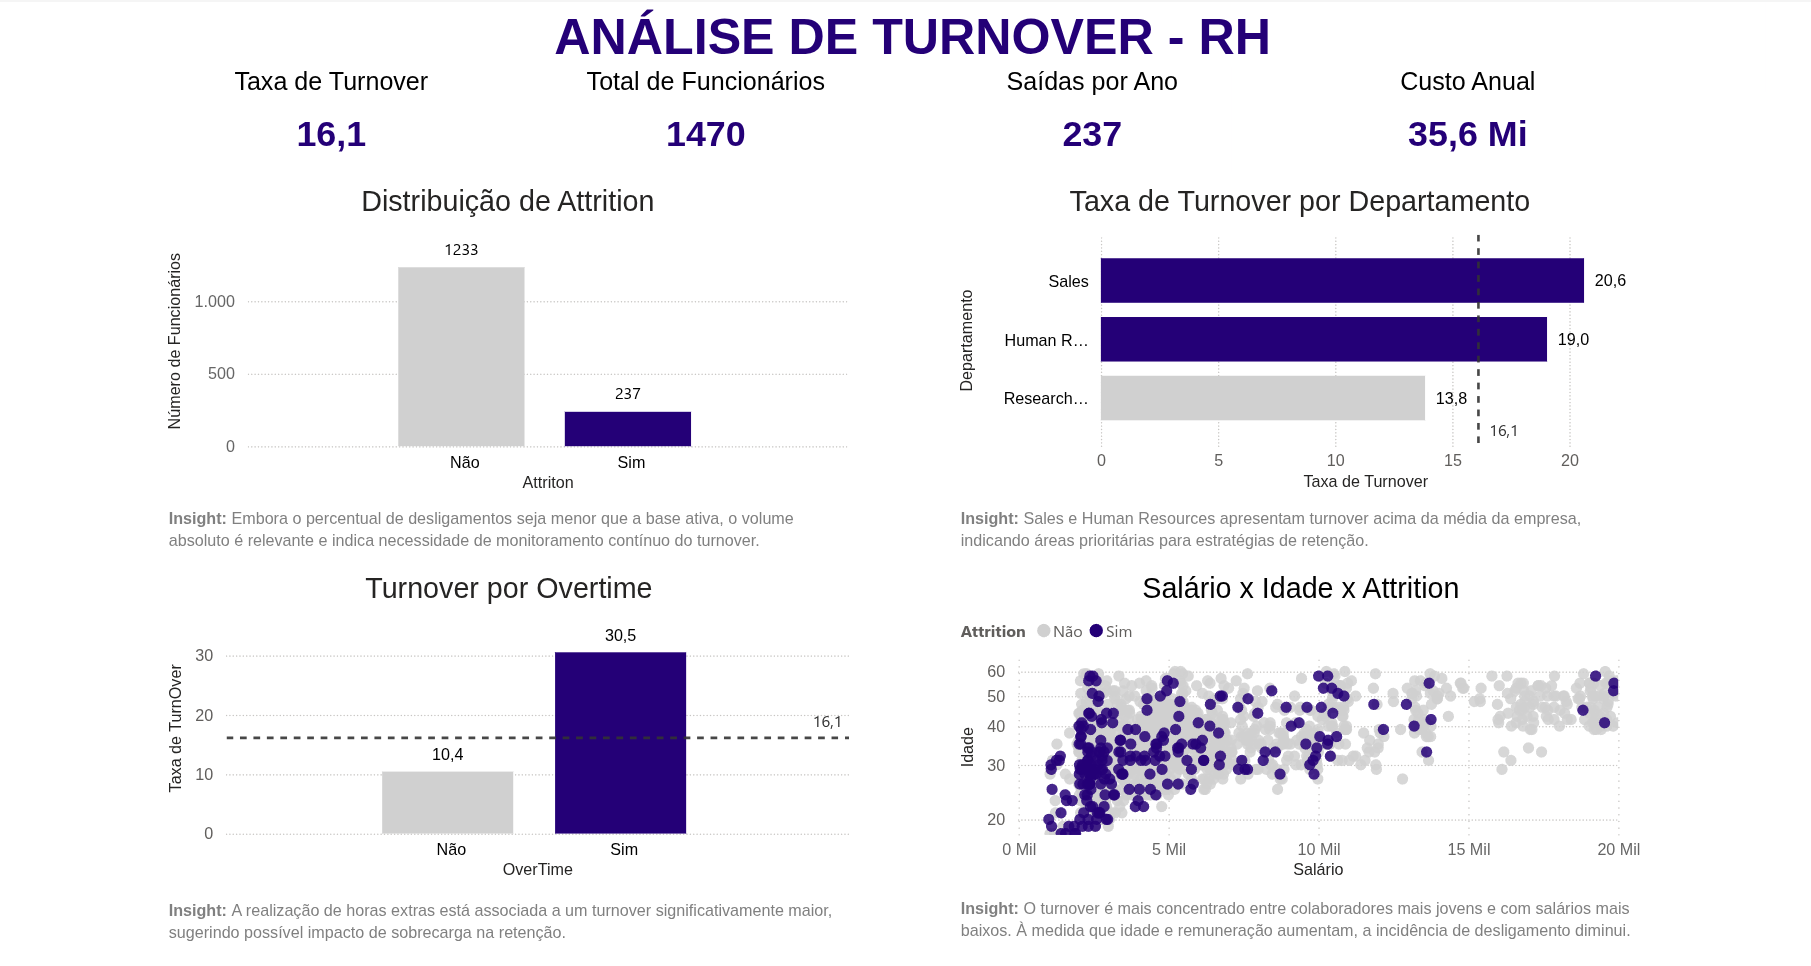

The page's visual inventory and layout, read from the dashboard file:
{"tool":"powerbi","page":{"name":"Overview","canvas":[1280,720],"ordinal":0},"visuals":[{"type":"textbox","box":[0,0,1280.3,67.2],"z":0},{"type":"card","title":"Taxa de Turnover","fields":{"Values":["WA_Fn-UseC_-HR-Employee-Attrition.Taxa_Turnover"]},"box":[118,48,189.4,78.2],"z":1000},{"type":"card","title":"Total de Funcionários","fields":{"Values":["WA_Fn-UseC_-HR-Employee-Attrition.Total_Funcionarios"]},"box":[383.8,48,215.4,78.2],"z":2000},{"type":"card","title":" Saídas por Ano","fields":{"Values":["WA_Fn-UseC_-HR-Employee-Attrition.Total_Saidas"]},"box":[675.6,48,207.2,78.2],"z":3000},{"type":"card","title":"Custo Anual","fields":{"Values":["WA_Fn-UseC_-HR-Employee-Attrition.Custo_Anual"]},"box":[959.2,48,197.6,78.2],"z":4000},{"type":"clusteredColumnChart","title":" Distribuição de Attrition","fields":{"Category":["WA_Fn-UseC_-HR-Employee-Attrition.Attrition"],"Y":["CountNonNull(WA_Fn-UseC_-HR-Employee-Attrition.EmployeeNumber)"]},"box":[86.5,135.8,516,233.3],"z":5000},{"type":"clusteredBarChart","title":" Taxa de Turnover por Departamento","fields":{"Category":["WA_Fn-UseC_-HR-Employee-Attrition.Department"],"Y":["WA_Fn-UseC_-HR-Employee-Attrition.Taxa_Turnover"]},"box":[675.1,135.8,516,232.3],"z":6000,"group":"g1"},{"type":"clusteredColumnChart","title":"Turnover por Overtime","fields":{"Y":["WA_Fn-UseC_-HR-Employee-Attrition.Taxa_Turnover"],"Category":["WA_Fn-UseC_-HR-Employee-Attrition.OverTime"]},"box":[86.8,424.3,516,233.6],"z":6000},{"type":"scatterChart","title":"Salário x Idade x Attrition","fields":{"X":["Avg(WA_Fn-UseC_-HR-Employee-Attrition.MonthlyIncome)"],"Y":["Avg(WA_Fn-UseC_-HR-Employee-Attrition.Age)"],"Series":["WA_Fn-UseC_-HR-Employee-Attrition.Attrition"],"Category":["WA_Fn-UseC_-HR-Employee-Attrition.EmployeeNumber"]},"box":[676.2,424.3,516,233.6],"z":7000},{"type":"textbox","box":[86.8,369.3,516,57.5],"z":8000},{"type":"group","id":"g1","title":"Grupo 1","box":[675.1,135.8,516,290],"z":9000},{"type":"textbox","box":[676.2,368.3,514.8,57.5],"z":10000,"group":"g1"},{"type":"textbox","box":[676.2,659.1,516,58.7],"z":10000},{"type":"textbox","box":[86.8,660.3,516,57.5],"z":11000}]}

Visuals, with their boxes on the page's 1280x720 design canvas (x1, y1, x2, y2). These are canvas units, not pixel positions in the 1811x966 screenshot, which may show the page scaled, cropped or inside an application window:
textbox: crop(0, 0, 1280, 67)
"Taxa de Turnover" card: crop(118, 48, 307, 126)
"Total de Funcionários" card: crop(384, 48, 599, 126)
" Saídas por Ano" card: crop(676, 48, 883, 126)
"Custo Anual" card: crop(959, 48, 1157, 126)
" Distribuição de Attrition" clusteredColumnChart: crop(86, 136, 602, 369)
" Taxa de Turnover por Departamento" clusteredBarChart: crop(675, 136, 1191, 368)
"Turnover por Overtime" clusteredColumnChart: crop(87, 424, 603, 658)
"Salário x Idade x Attrition" scatterChart: crop(676, 424, 1192, 658)
textbox: crop(87, 369, 603, 427)
"Grupo 1" group: crop(675, 136, 1191, 426)
textbox: crop(676, 368, 1191, 426)
textbox: crop(676, 659, 1192, 718)
textbox: crop(87, 660, 603, 718)
